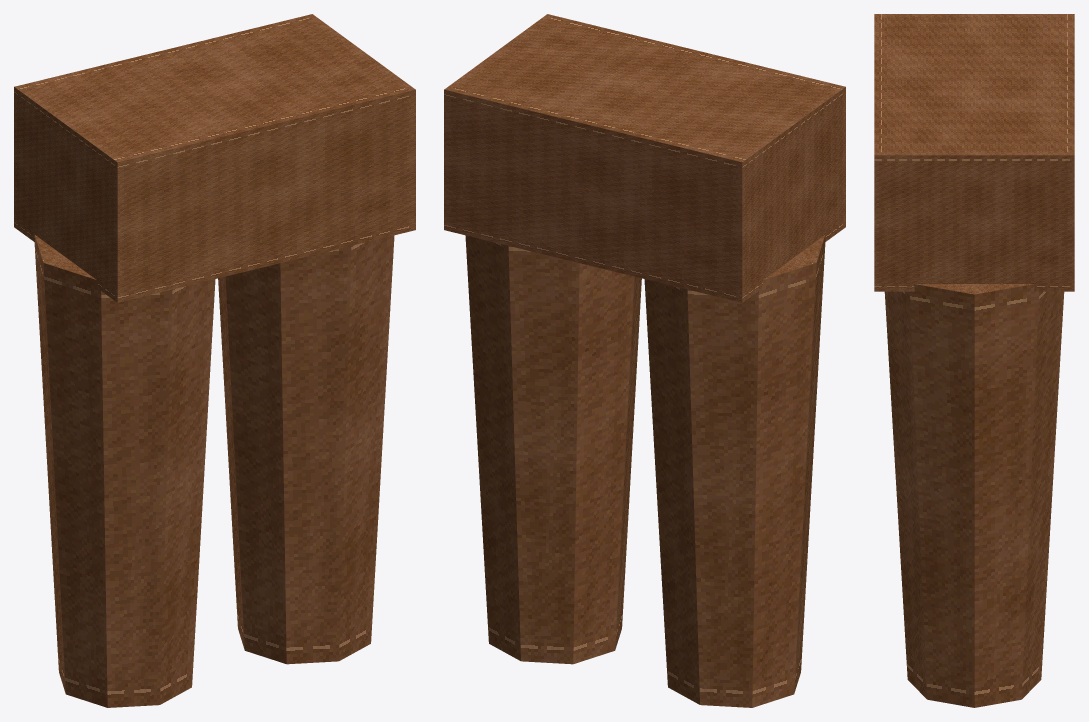
File: calcas_de_couro.glb
The picture shows the model from 3 angles, left to right: view 1: azimuth 30°, elevation 25°; view 2: azimuth 150°, elevation 25°; view 3: azimuth 270°, elevation 25°; orthographic projection. The views are drawn at different scales.
Visible parts, largest first — view 1: calcas_de_couro; view 2: calcas_de_couro; view 3: calcas_de_couro.
Part boxes in pixels (box(x1,y1,x2,y2)): calcas_de_couro: box(14, 14, 415, 707); calcas_de_couro: box(444, 14, 845, 707); calcas_de_couro: box(874, 14, 1074, 707).
Bounding box in the file's own units: 0.46 × 0.73 × 0.24.
1 material, 1 textured.
